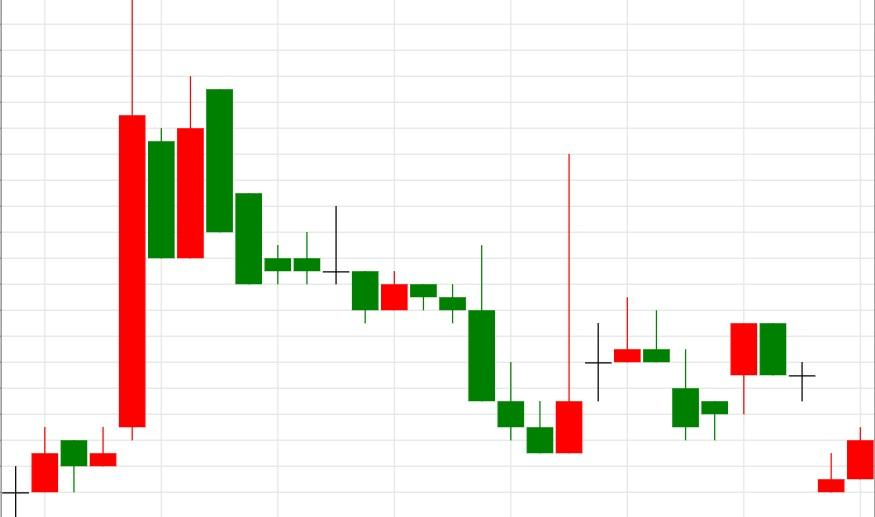bullish_engulfing_rise: (205, 88, 584, 454)
